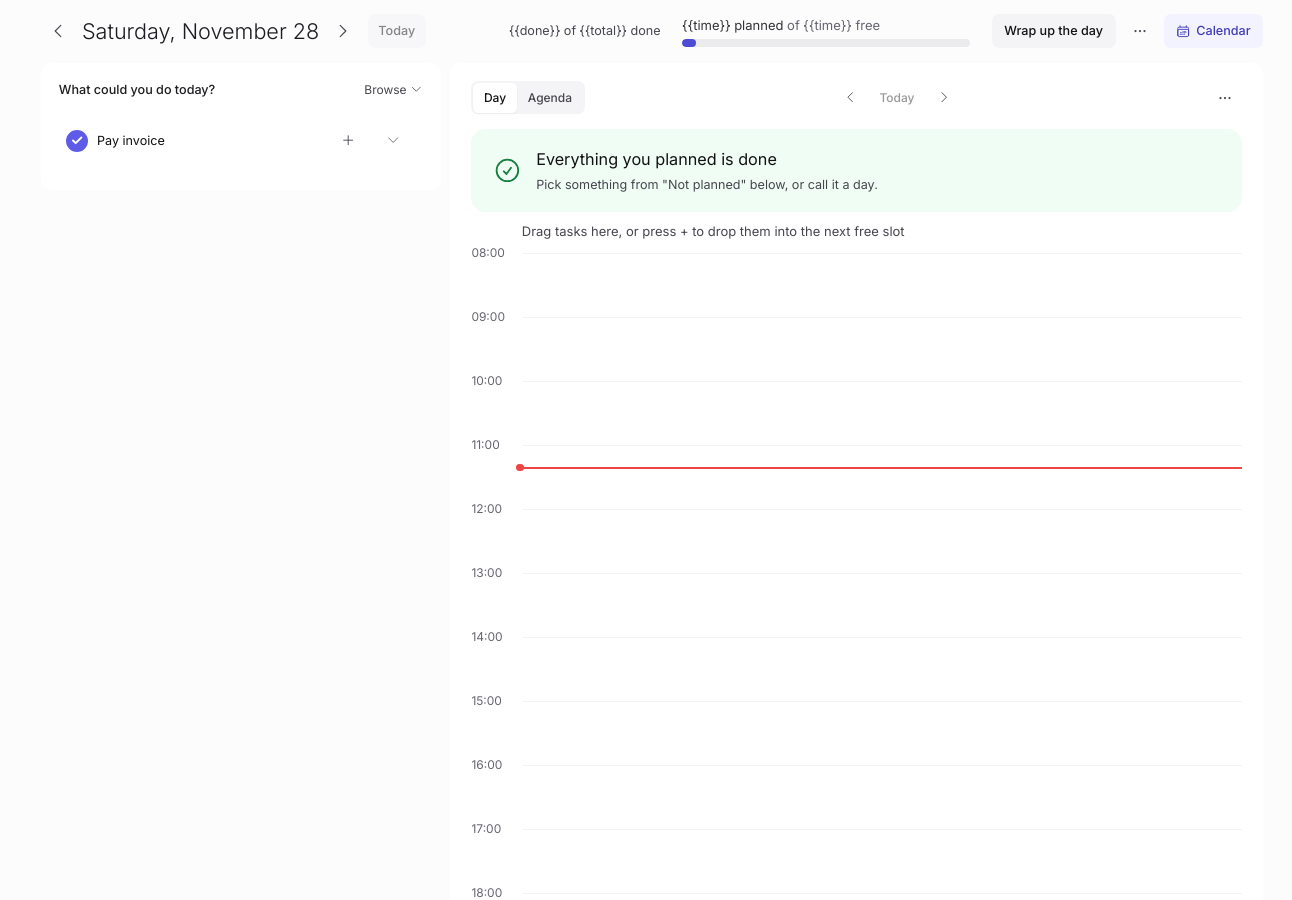
TodayPage routing and panel mode › names the shown day in the calendar pane, not "Today", on another day
Expected: the button "Pay invoice" is shown, 97,132 -> 165,150
Expected: the button with test id "panel-today" reads "Today", 869,83 -> 925,113
Click the button with test id "day-next": click(343, 31) 326,14 -> 360,48
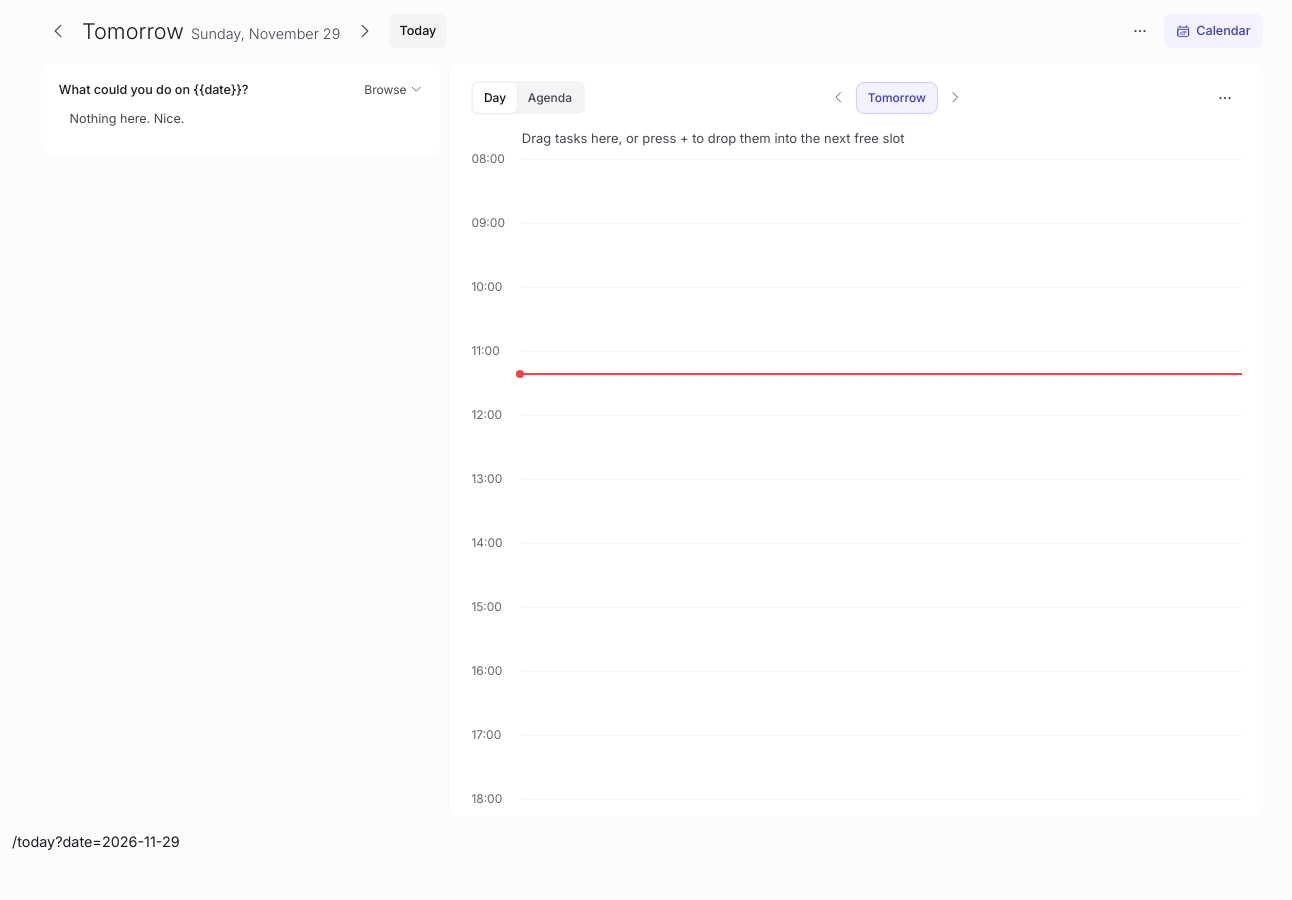
Expected: the button with test id "panel-today" reads "Tomorrow", 857,83 -> 937,113
Expected: the heading with test id "day-label" shows "Tomorrow", 82,18 -> 184,44
Expected: the button with test id "panel-today" is enabled, 857,83 -> 937,113
Click the button with test id "panel-prev": click(838, 98) 823,83 -> 853,113
(page scrolled)
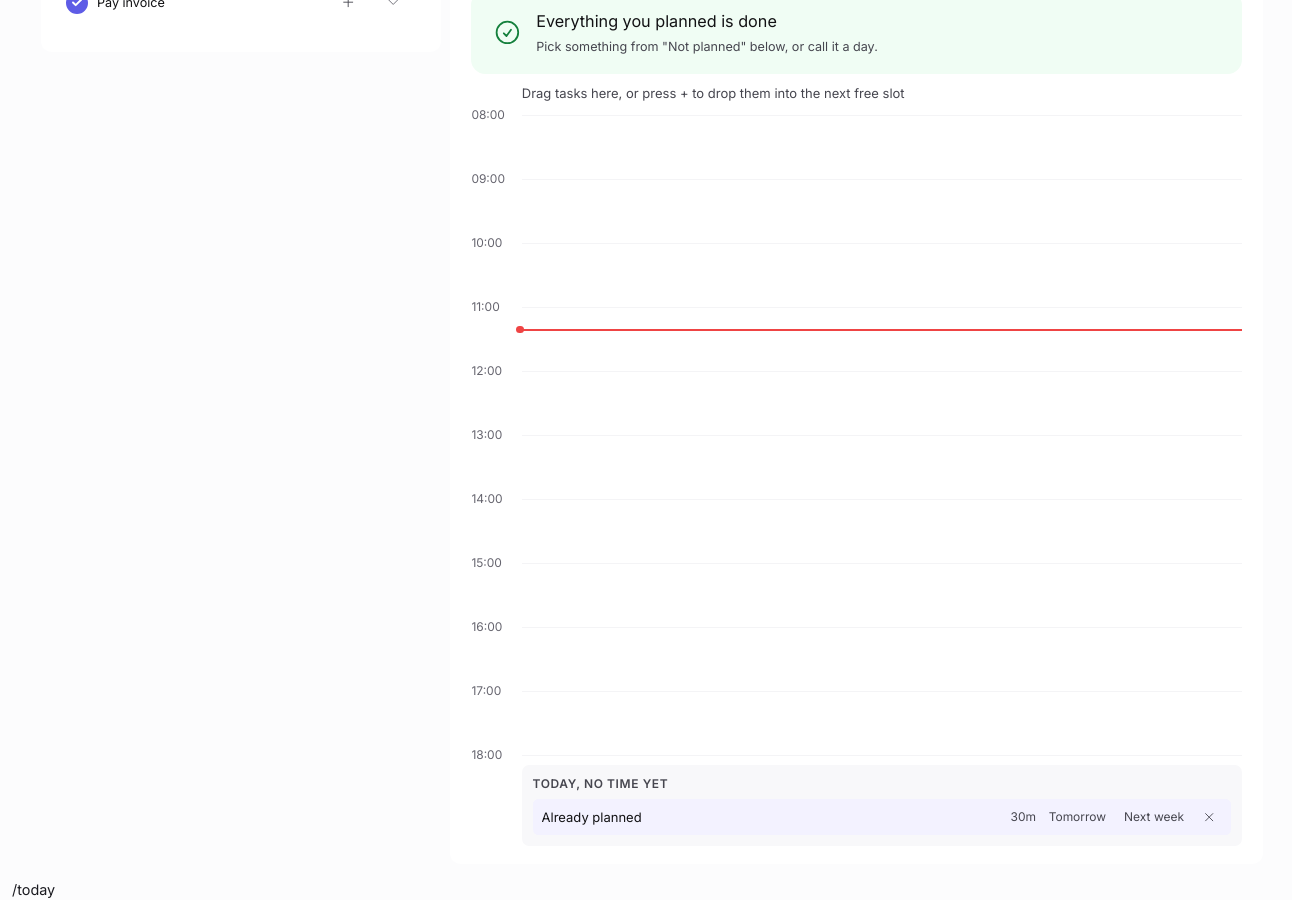
Expected: the text with test id "location" reads "/today", 12,881 -> 55,898
